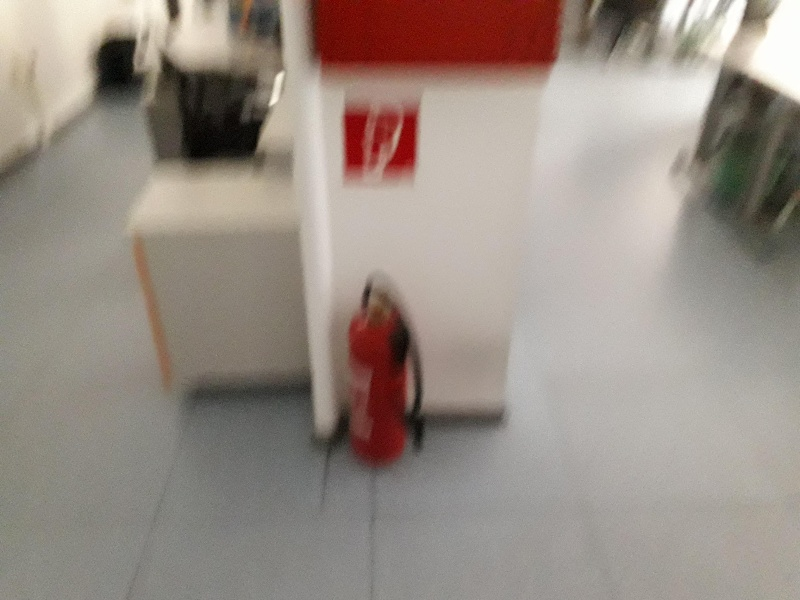vataparat: (347, 276, 426, 467)
